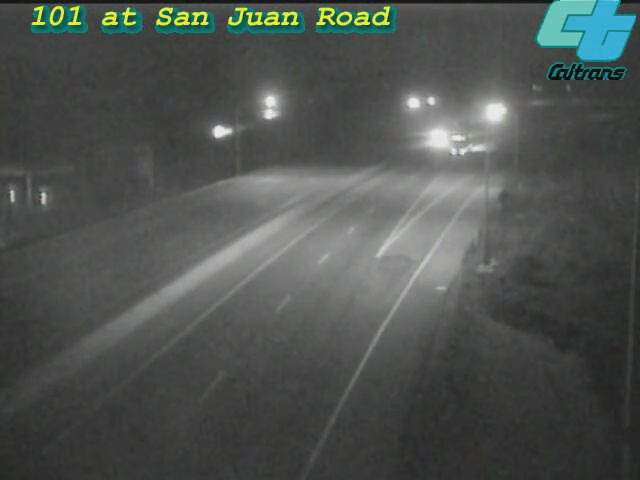vehicle: (413, 110, 463, 160), (465, 87, 515, 137), (434, 121, 484, 171)
